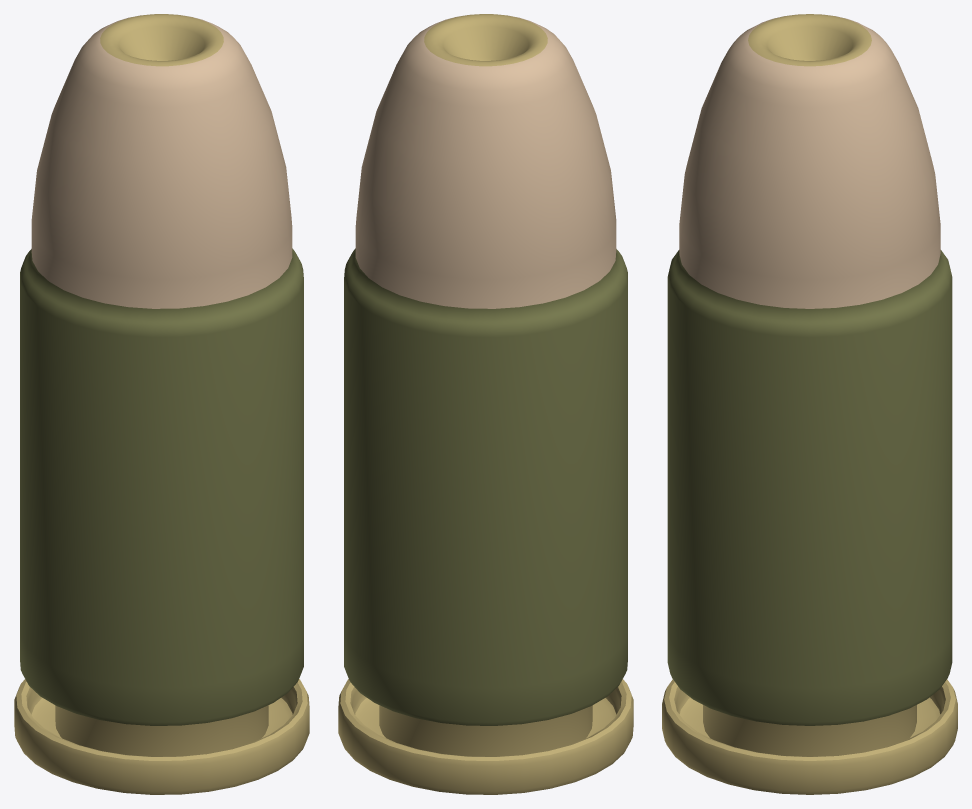
The model's file is bullet3.fbx.
3 views of the same model, side by side, from view 1: azimuth 30°, elevation 25°; view 2: azimuth 150°, elevation 25°; view 3: azimuth 270°, elevation 25° (orthographic).
Parts seen in each view (by area): view 1: Circle; view 2: Circle; view 3: Circle.
Boxes of the visible parts, x1,y1,x2,y2 form: Circle: (14,14,309,794); Circle: (338,14,633,794); Circle: (662,14,957,794).
Size of the model in its own units: 11.18 by 29.01 by 11.18.
